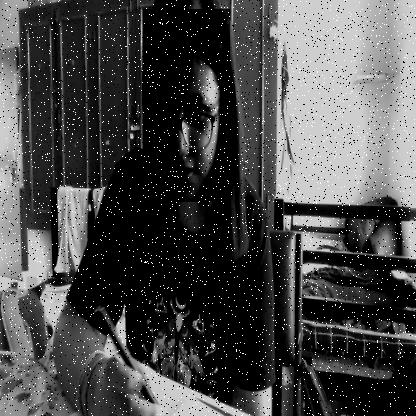Normal: (143, 9, 230, 202)
